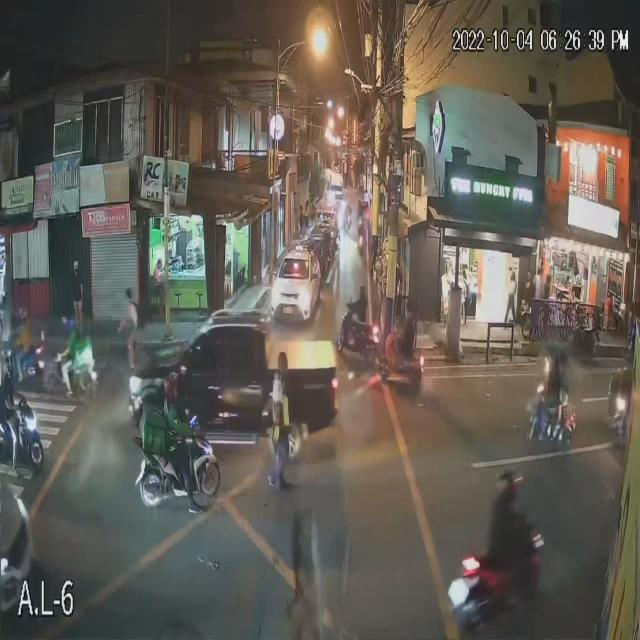Full-Faced: (493, 464, 526, 501), (158, 370, 182, 405), (2, 348, 18, 376), (399, 296, 416, 319), (63, 315, 77, 342), (358, 281, 369, 302)
